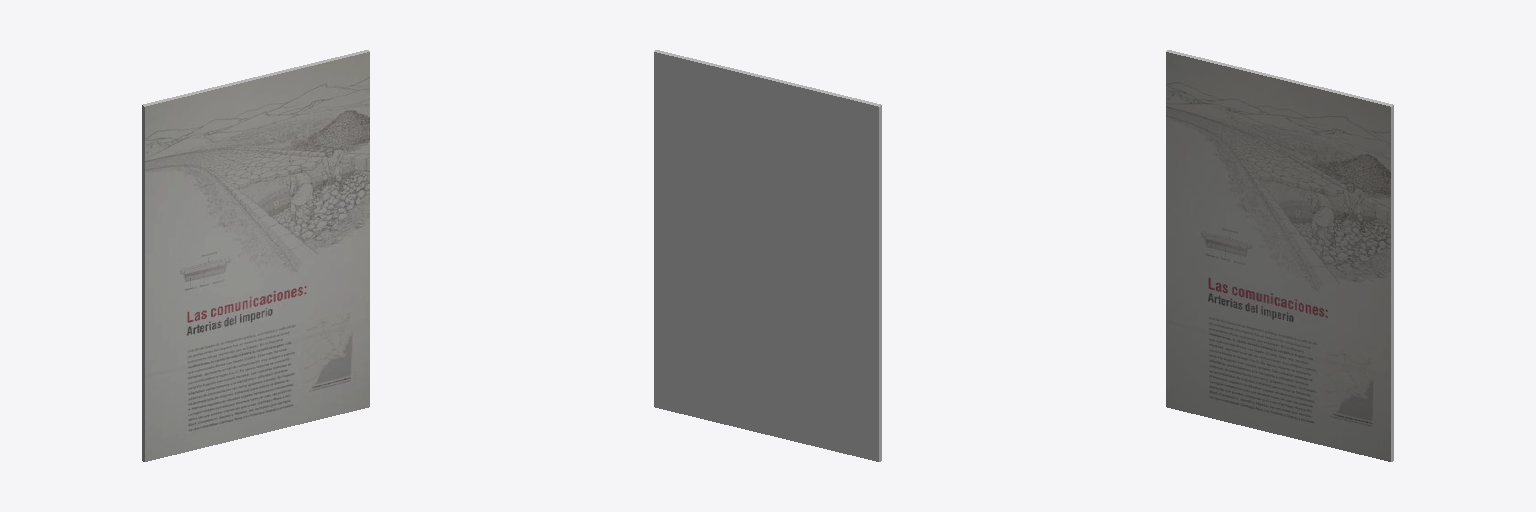
The picture shows the model from 3 angles: view 1: azimuth 30°, elevation 25°; view 2: azimuth 150°, elevation 25°; view 3: azimuth 330°, elevation 25°; orthographic projection.
Parts seen in each view (by area): view 1: SketchUp.001_ID10, SketchUp_ID2; view 2: SketchUp_ID2; view 3: SketchUp.001_ID10, SketchUp_ID2.
Boxes of the visible parts, <box> form: SketchUp.001_ID10: <box>145,52,369,461</box>; SketchUp_ID2: <box>142,50,369,461</box>; SketchUp_ID2: <box>654,50,881,461</box>; SketchUp.001_ID10: <box>1166,52,1390,461</box>; SketchUp_ID2: <box>1166,50,1393,461</box>.
Bounding box in the file's own units: 188 × 283 × 3.94.
2 materials, 1 textured.